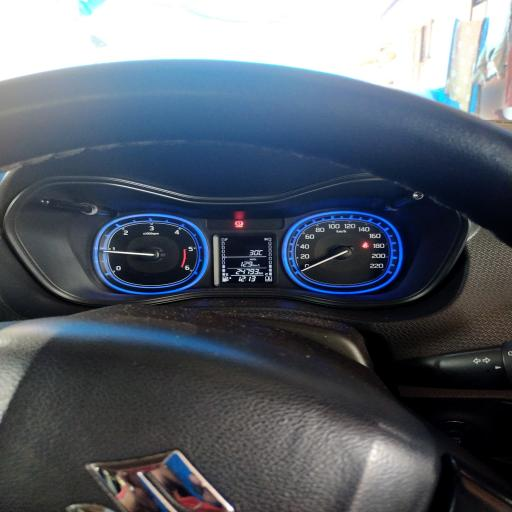belt: (362, 242, 368, 248)
brake_system_fault: (235, 220, 243, 226)
tachometer: (96, 214, 209, 295)
